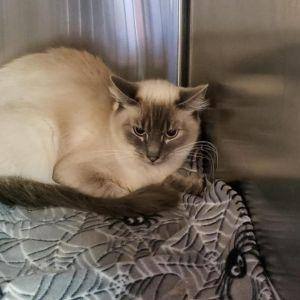siamese: (102, 64, 213, 179)
